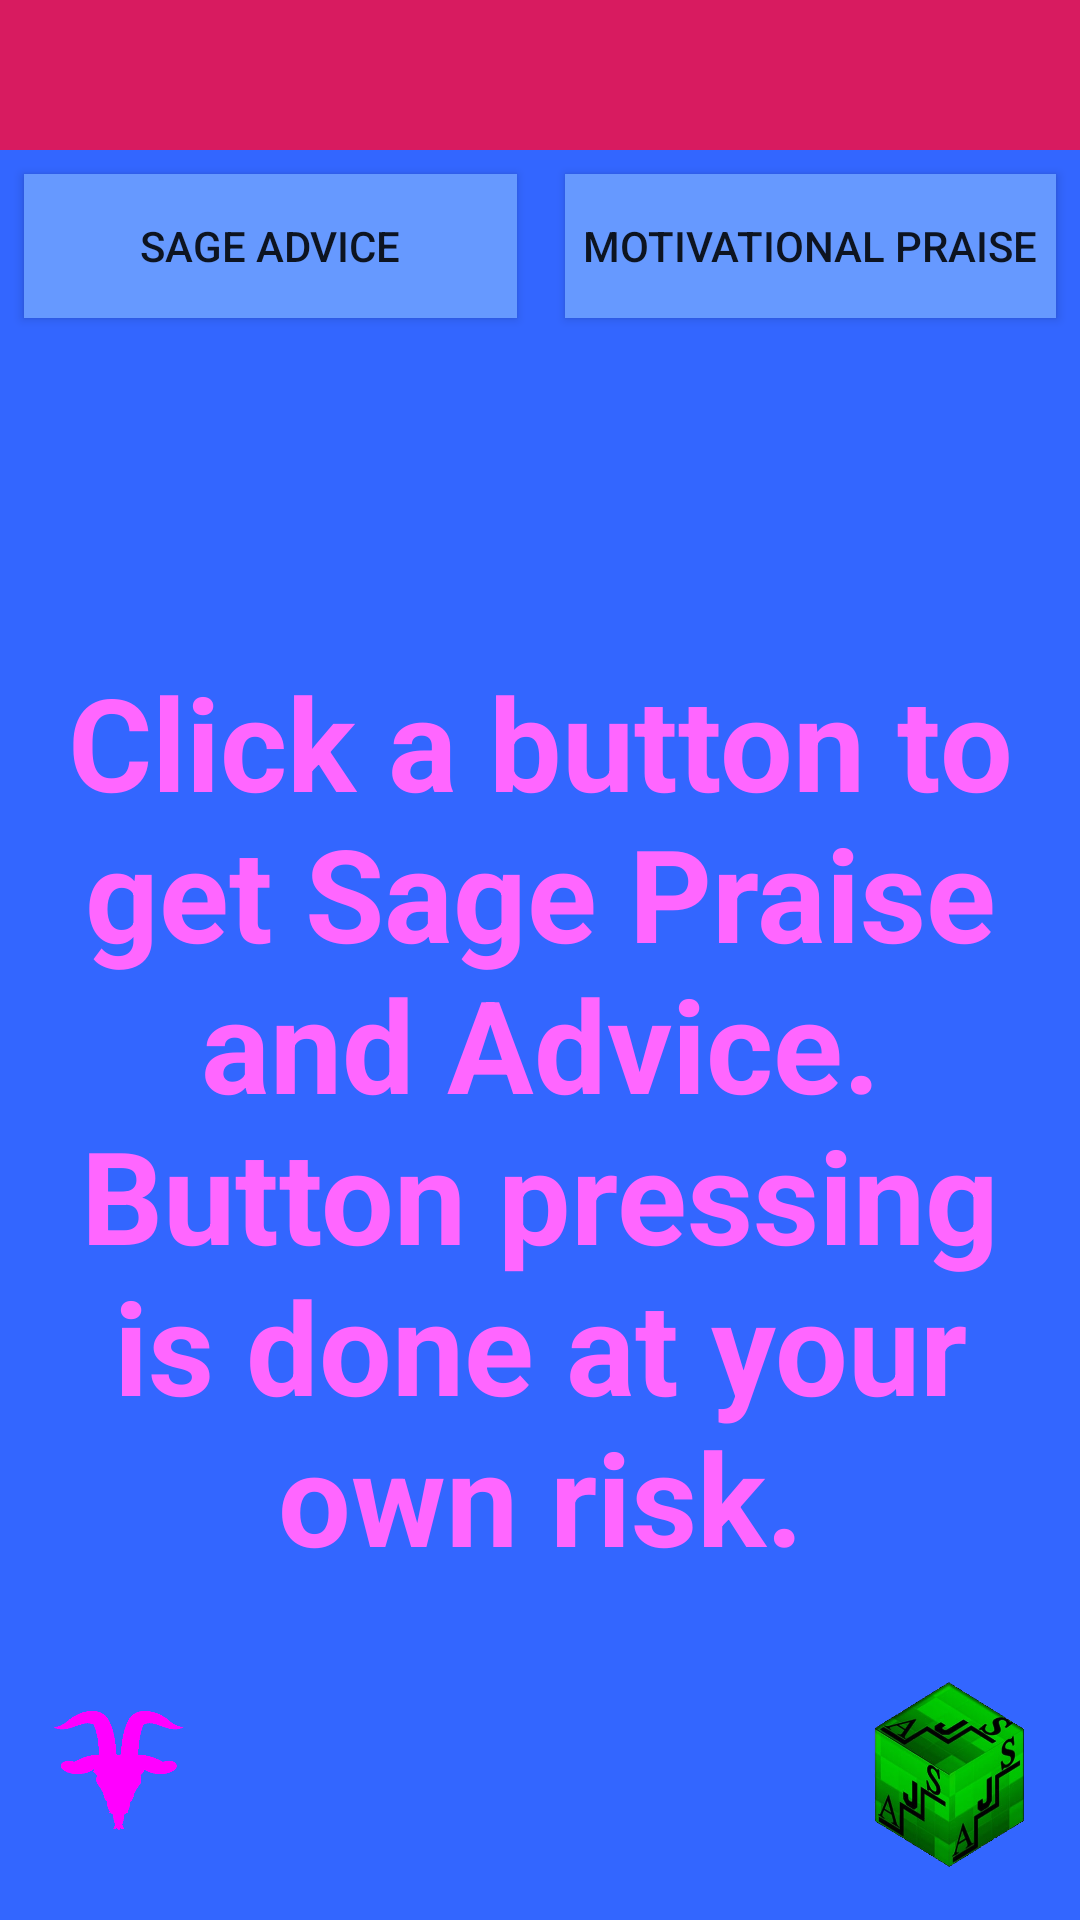

Icons on this 1080 x 1920 Android screen, each with the point to tap as (x=x, y=y):
goat alone: (x=119, y=1770)
